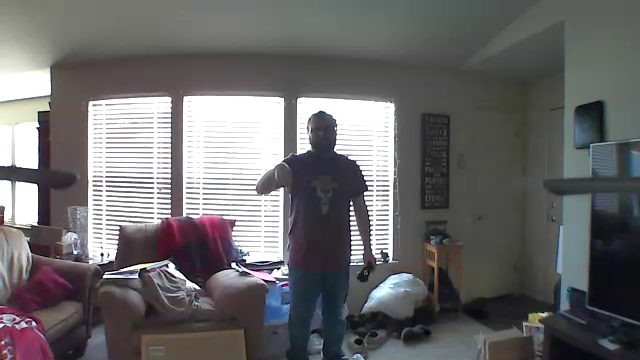down: (269, 159, 296, 198)
